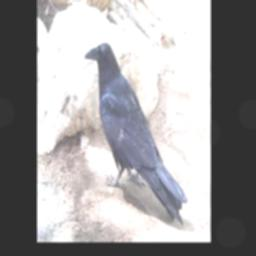Crow: (83, 40, 186, 227)
